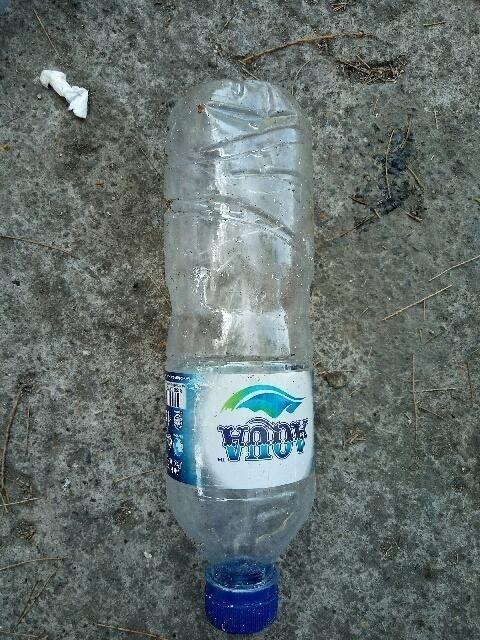bottle-plastic: (153, 71, 326, 637)
